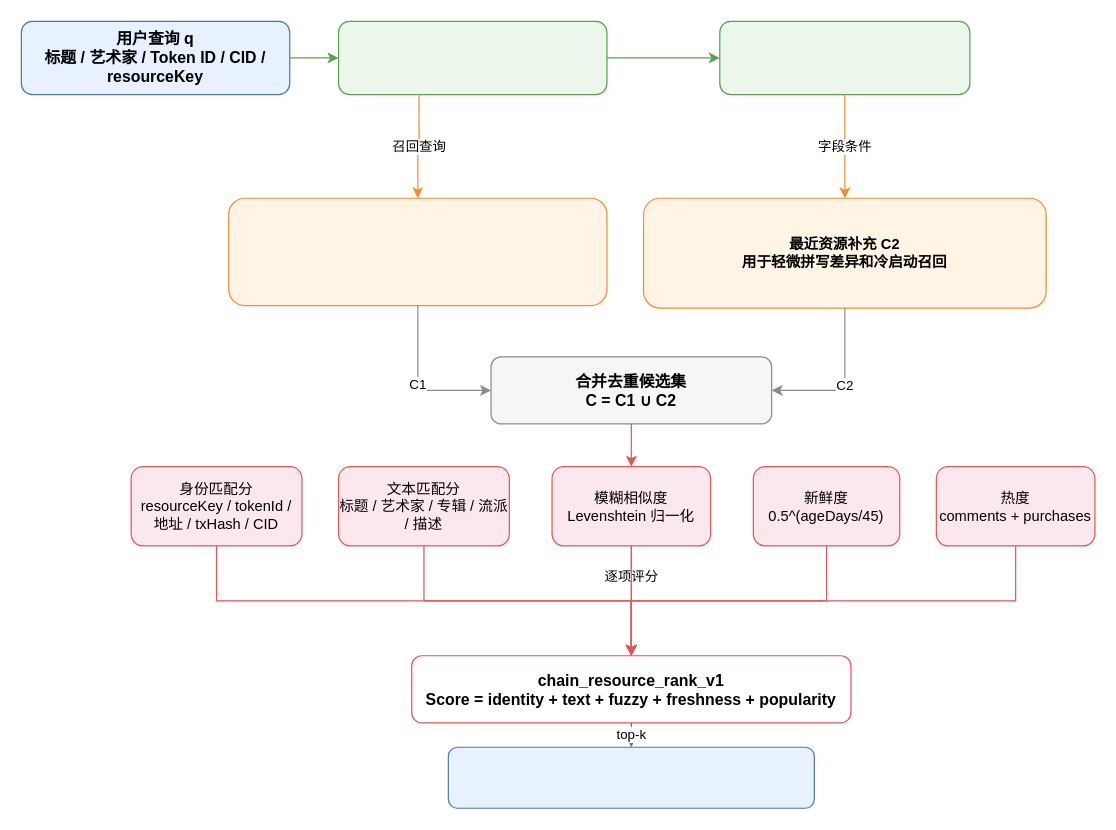
This 1116x830 diagram has some shape labels left out. Here are the shapes that lost their labels. From the top down, the centre of each, then its label:
At point 472,57: "查询归一化 NFKC / 小写 / 空格合并 / compact / 分词".
At point 844,57: "链上身份识别 EVM地址 / IPFS CID / txHash / tokenId".
At point 417,251: "数据库召回 C1 PUBLISHED 且 chainId / MusicAccess1155 / tokenId 非空 文本字段与链上身份字段 contains".
At point 630,777: "过滤无关候选，按总分降序排序 返回 top-k + reasons + features".
